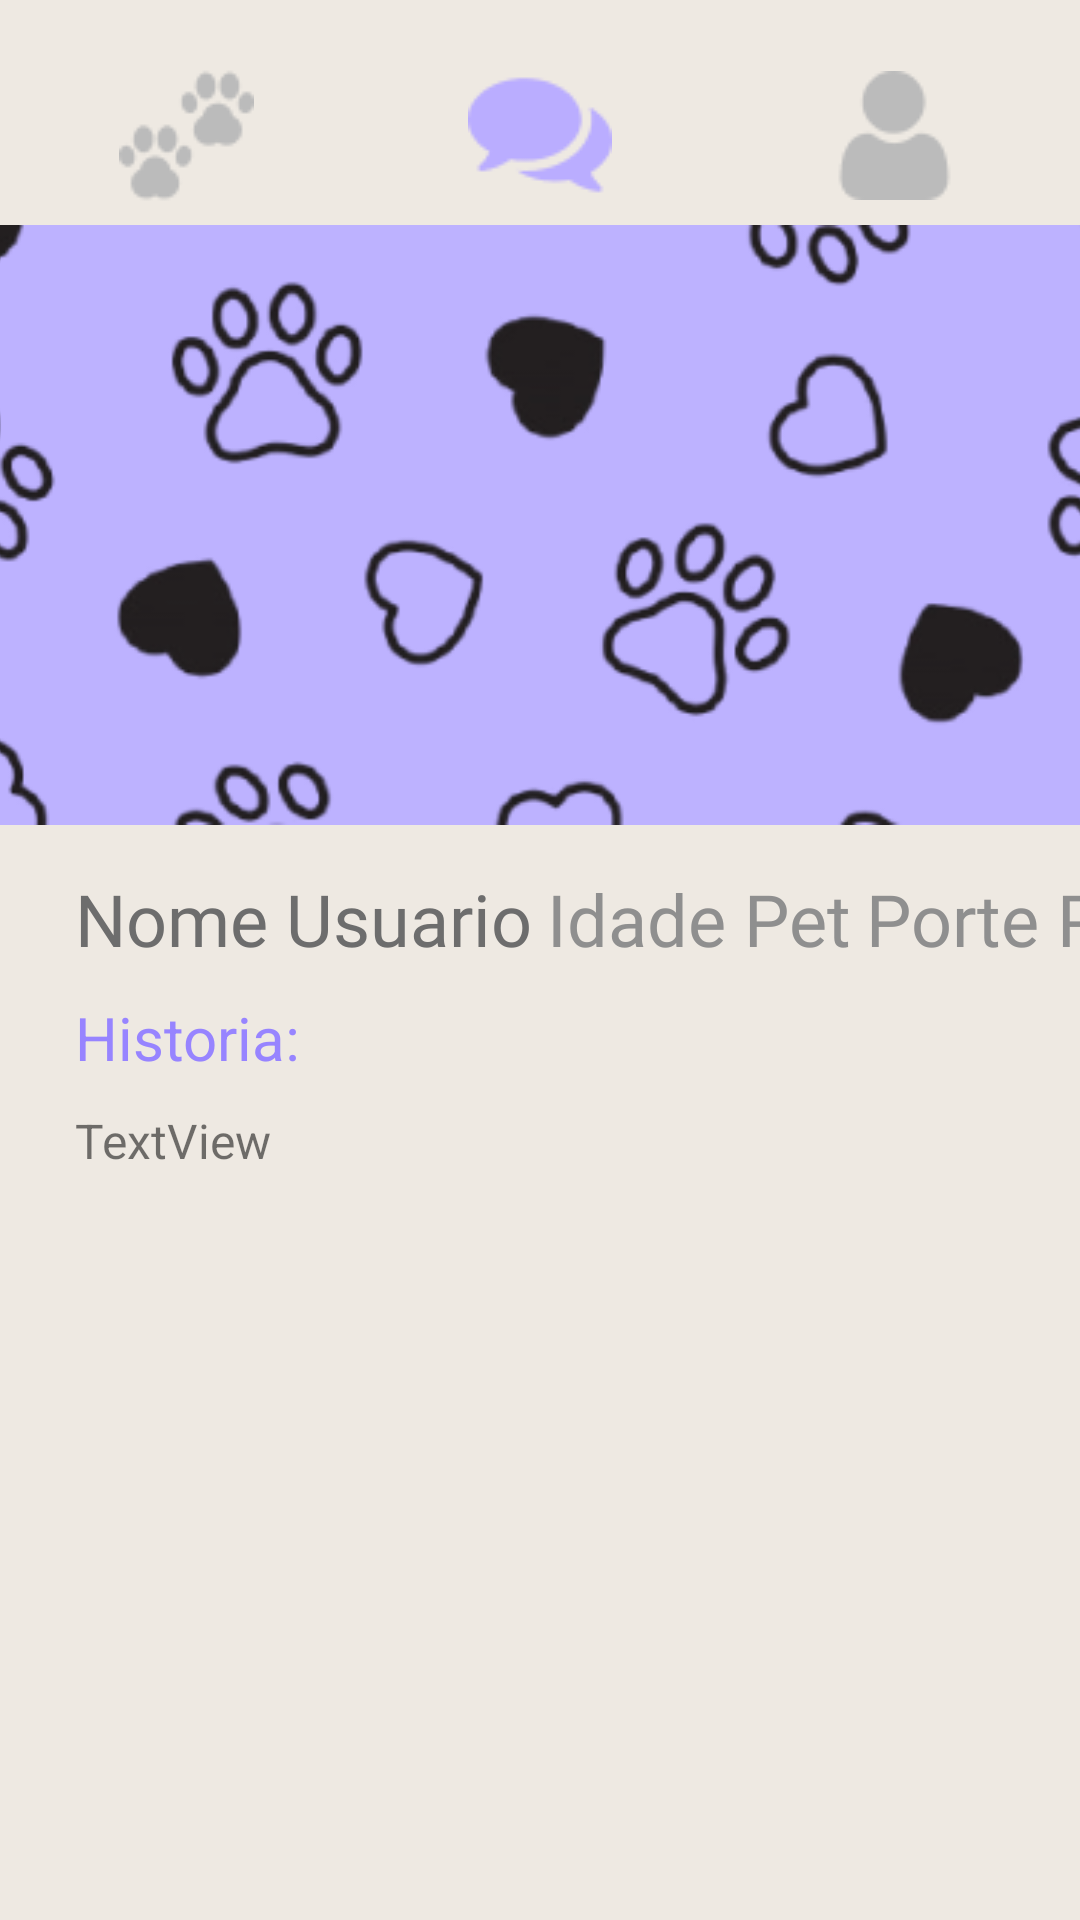

Named icons in this screenshot (1080x1920) and their bounding boxes, (left=x1, top=y1, right=x2, bottom=y2):
iconechatativado: (left=468, top=78, right=612, bottom=192)
iconeperfilnormal: (left=840, top=71, right=948, bottom=200)
iconepetchnormal: (left=119, top=73, right=254, bottom=198)
